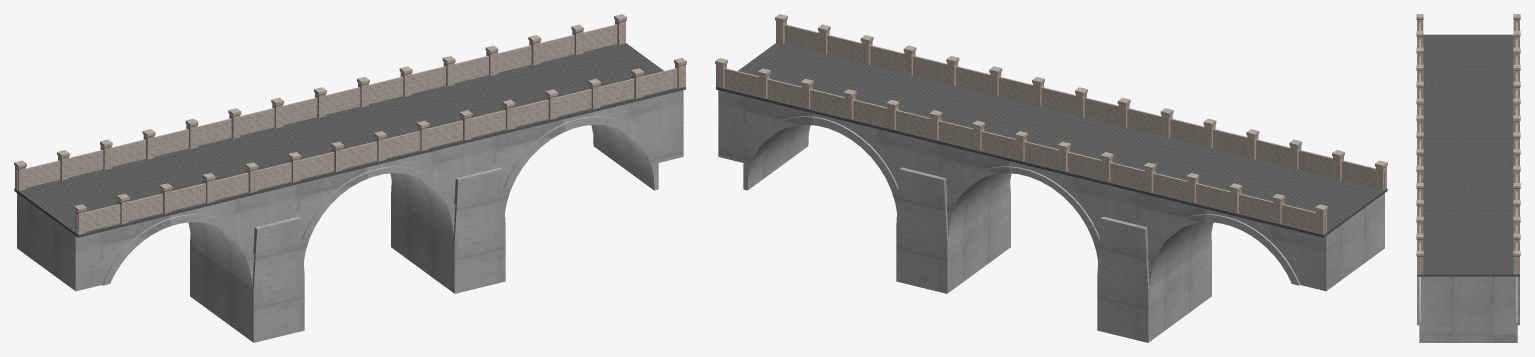
Rendered from qiao10.FBX.
3 renders of one model, left to right at view 1: azimuth 30°, elevation 25°; view 2: azimuth 150°, elevation 25°; view 3: azimuth 270°, elevation 25°, orthographic. The views are drawn at different scales.
Visible parts, largest first — view 1: qiao10; view 2: qiao10; view 3: qiao10.
Boxes of the visible parts, x1=… form: qiao10: x1=14, y1=14, x2=686, y2=342; qiao10: x1=715, y1=14, x2=1387, y2=342; qiao10: x1=1416, y1=14, x2=1520, y2=342.
Size of the model in its own units: 4628 by 1283 by 849.
3 materials, 3 textured.
